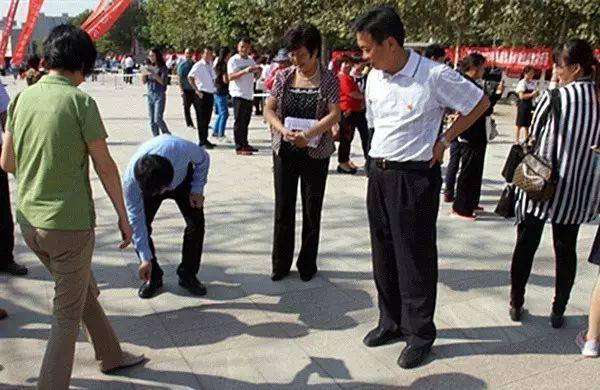bending: (120, 132, 220, 298)
up: (5, 23, 127, 385), (349, 6, 463, 370), (513, 35, 600, 334), (265, 23, 333, 285), (223, 33, 261, 157), (190, 45, 224, 151)
